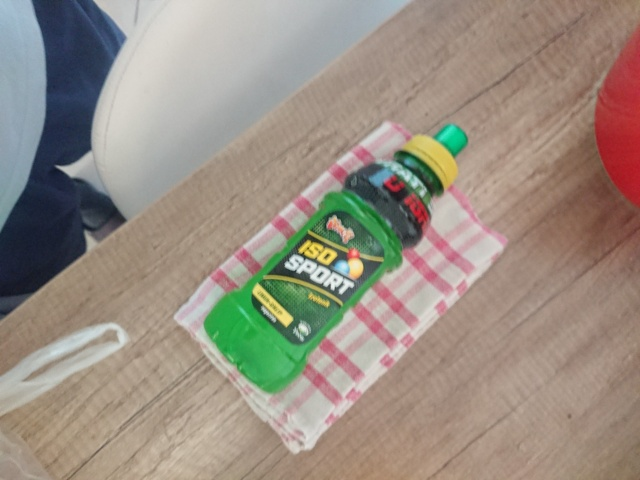Vindi Iso Sport Lemon-Grapefruit 500mL: (200, 120, 471, 397)
